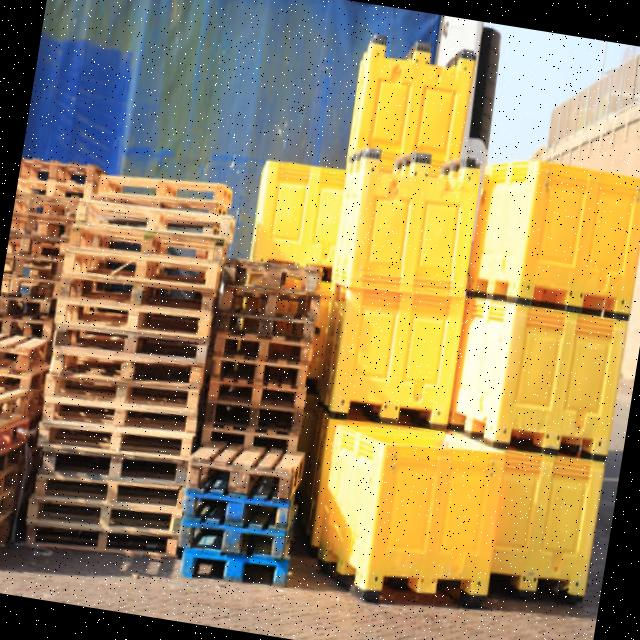Wooden-Pallets: (0, 157, 323, 583), (65, 208, 226, 282), (38, 378, 200, 449), (36, 402, 200, 470), (54, 282, 215, 350), (46, 343, 210, 409), (28, 456, 190, 522), (23, 502, 185, 567), (71, 188, 232, 252), (44, 361, 202, 426), (62, 238, 221, 302), (51, 316, 210, 376), (28, 485, 183, 545), (41, 441, 192, 496), (187, 439, 309, 503), (96, 165, 235, 218), (201, 400, 305, 440), (207, 356, 313, 395), (216, 287, 320, 326), (210, 332, 314, 369), (204, 381, 309, 415), (223, 260, 322, 295), (217, 314, 316, 347)
